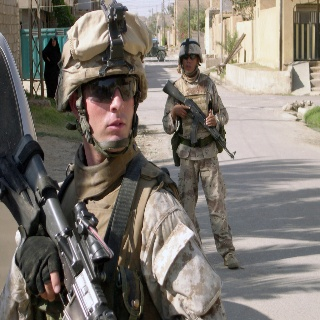rifle: (162, 80, 238, 158)
